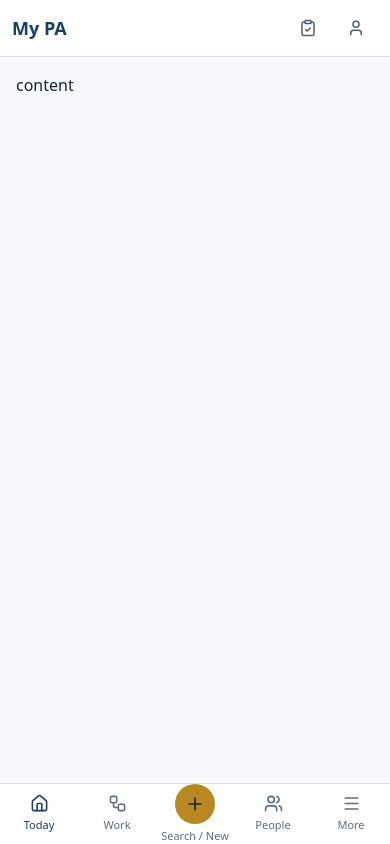
Test: app shell › shows the synthetic provider badge once diagnostics are on
The width and height of the screenshot is (390, 844).
Step 1. Click the button named "Account" → click(356, 28), box top-left (334, 6), bottom-right (378, 50)
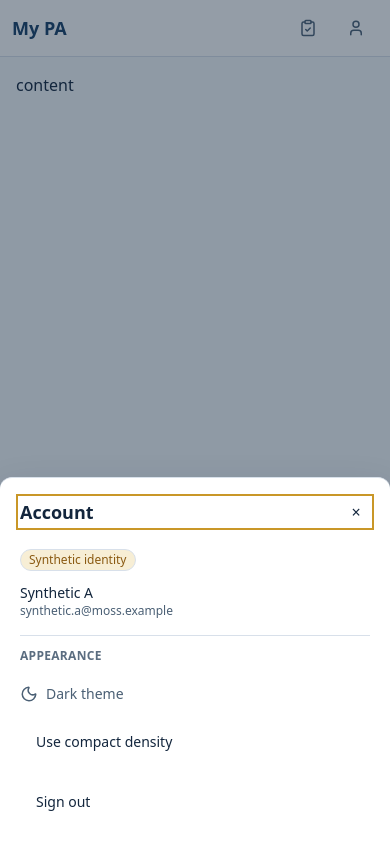
Result: the text "Synthetic identity" is shown at top-left (20, 549), bottom-right (136, 571)
Result: the text with test id "principal-name" reads "Synthetic A" at top-left (20, 583), bottom-right (93, 602)
